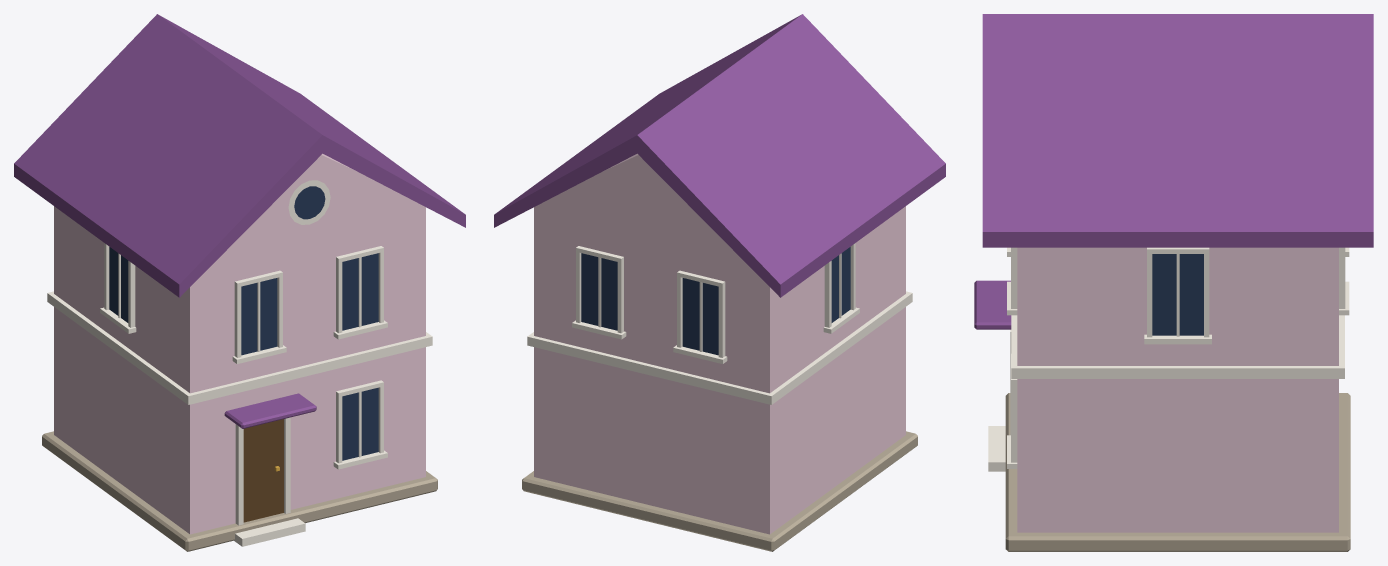
The model's file is house-c.glb.
3 renders of one model, left to right at view 1: azimuth 30°, elevation 25°; view 2: azimuth 150°, elevation 25°; view 3: azimuth 270°, elevation 25°, orthographic. The views are drawn at different scales.
Visible parts, largest first — view 1: house-c; view 2: house-c; view 3: house-c.
Part boxes in pixels (bbox=[...]): house-c: bbox=[14, 14, 465, 551]; house-c: bbox=[494, 14, 945, 551]; house-c: bbox=[974, 14, 1373, 551].
Size of the model in its own units: 6.8 by 8.95 by 6.95.
